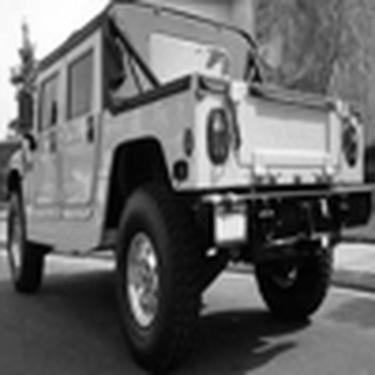car: (1, 2, 367, 371)
